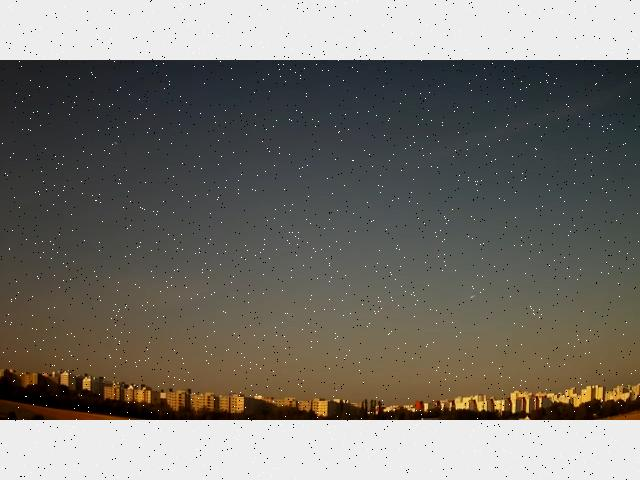Anti-Drone: (466, 292, 478, 304)
